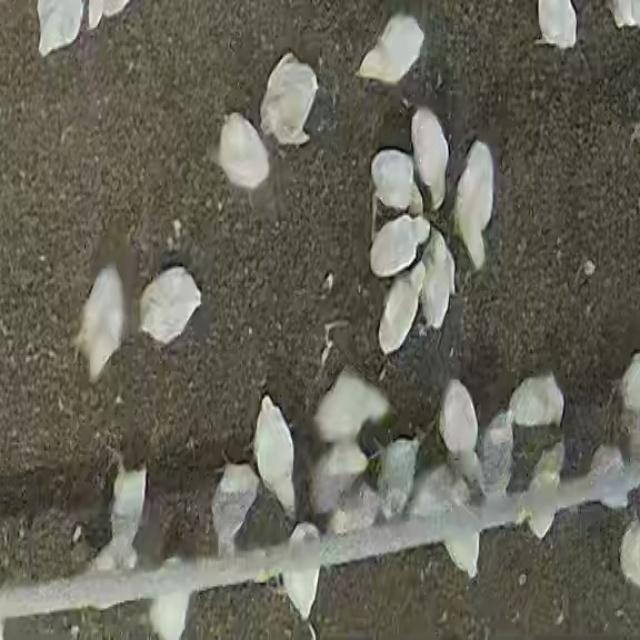chicken: (69, 262, 133, 383), (92, 463, 146, 575), (312, 368, 389, 446), (252, 392, 298, 519), (260, 53, 318, 147), (453, 140, 495, 268), (138, 266, 204, 345), (356, 13, 425, 87), (310, 442, 370, 521), (210, 462, 258, 560), (216, 114, 271, 192), (282, 520, 324, 622), (521, 443, 565, 540), (410, 108, 450, 212), (378, 268, 423, 355), (439, 378, 480, 468), (368, 215, 423, 280), (378, 436, 420, 520), (476, 409, 515, 499), (421, 232, 456, 332), (508, 372, 567, 429), (584, 444, 635, 508), (409, 465, 462, 524), (368, 148, 416, 213), (34, 0, 85, 60), (440, 510, 482, 579), (149, 580, 194, 640), (535, 1, 579, 49), (619, 514, 640, 593), (619, 351, 640, 417), (607, 0, 637, 29), (95, 1, 133, 22), (86, 1, 110, 28)
